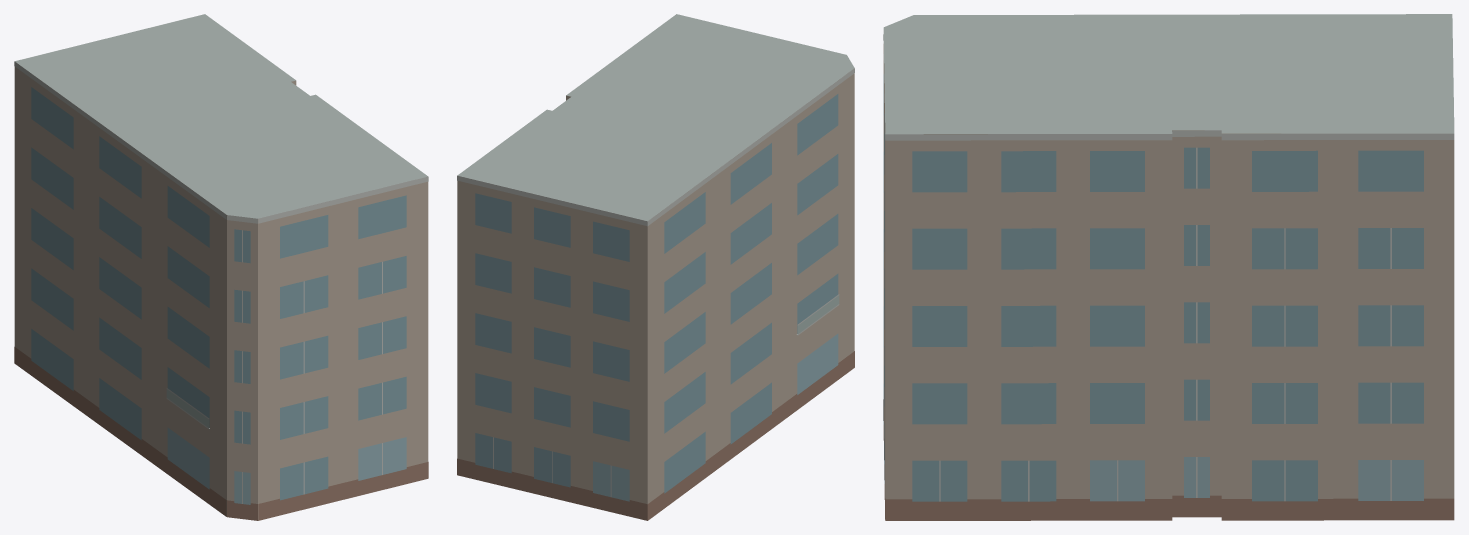
Rendered from survey-upis-33021438.glb.
3 views of the same model, side by side, from view 1: azimuth 30°, elevation 25°; view 2: azimuth 150°, elevation 25°; view 3: azimuth 270°, elevation 25° (orthographic). The views are drawn at different scales.
Visible parts, largest first — view 1: survey-upis-33021438.tmp; view 2: survey-upis-33021438.tmp; view 3: survey-upis-33021438.tmp.
Part boxes in pixels (x1,y1,x2,y2): survey-upis-33021438.tmp: (14,14,428,520); survey-upis-33021438.tmp: (457,14,854,520); survey-upis-33021438.tmp: (883,14,1454,520).
Size of the model in its own units: 9.81 by 14.7 by 19.68.
